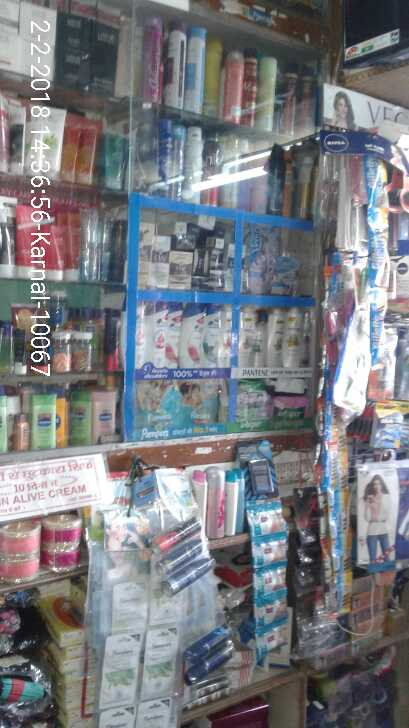gillete: (372, 400, 409, 449), (368, 212, 390, 285), (391, 308, 409, 390), (370, 289, 389, 365), (367, 156, 388, 210)
